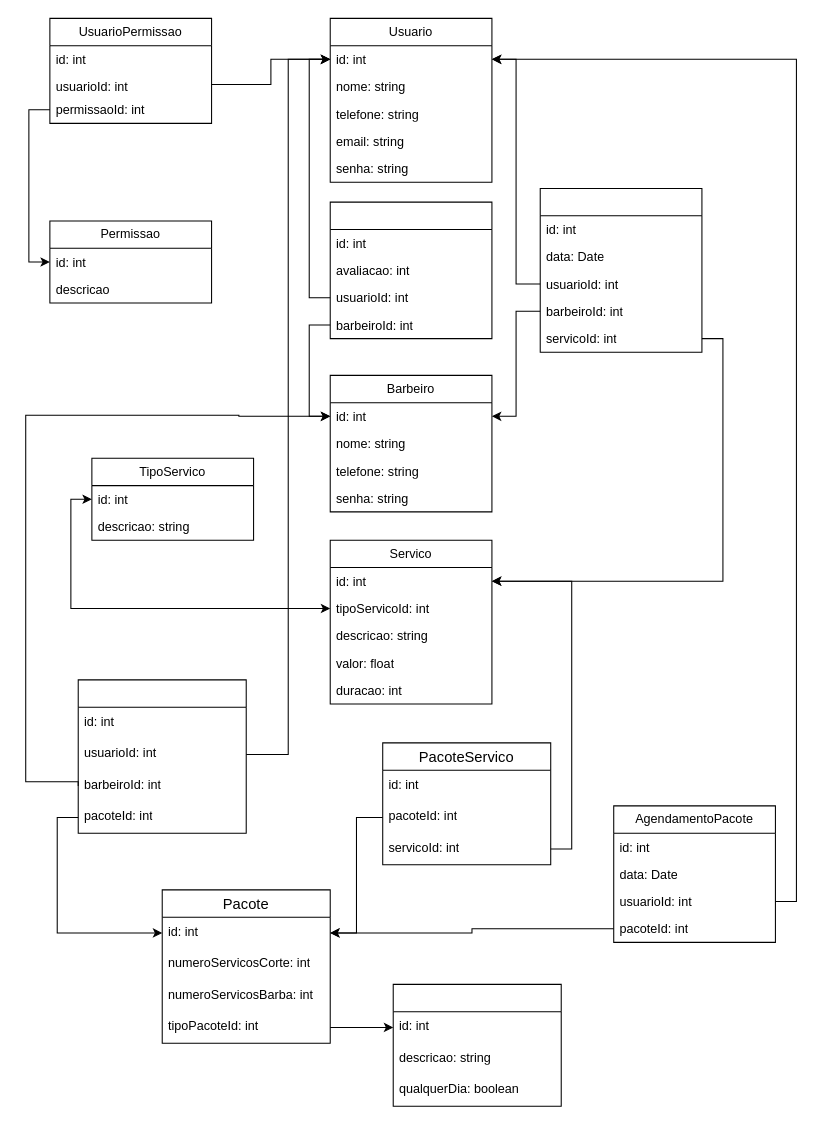
Image size: 823x1128. Some labels were removed from this diagram. The box of each missing label's shape, as (x1, y1, x2, y2) in pixels:
Agendamento: (539, 187, 702, 352)
AvaliacaoBarbeiro: (329, 201, 492, 339)
TipoPacote: (392, 983, 561, 1106)
UsuarioPacote: (77, 679, 246, 833)
